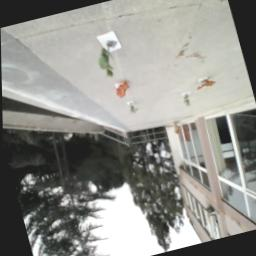herb: (94, 44, 120, 83), (127, 102, 140, 117), (182, 94, 193, 109)
wild: (113, 81, 133, 101), (195, 79, 218, 93)
